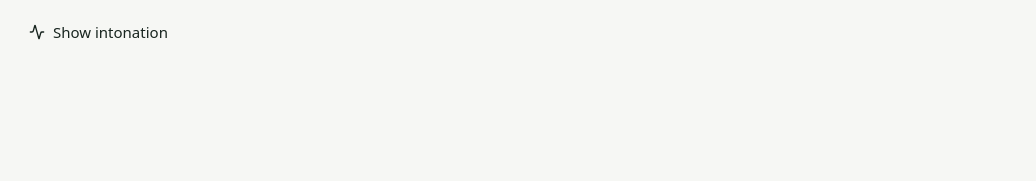
it: loads on request and describes the pitch without any score
Click the button "Show intonation" at (98, 32), box [12,12,185,52]
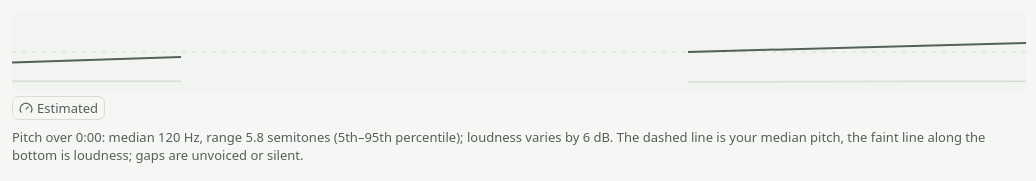
Check: the text "loudness varies by 6 dB" is shown, box [12,128,985,164]
